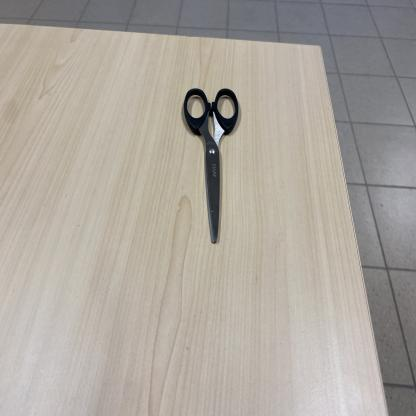scissors: (183, 87, 241, 245)
